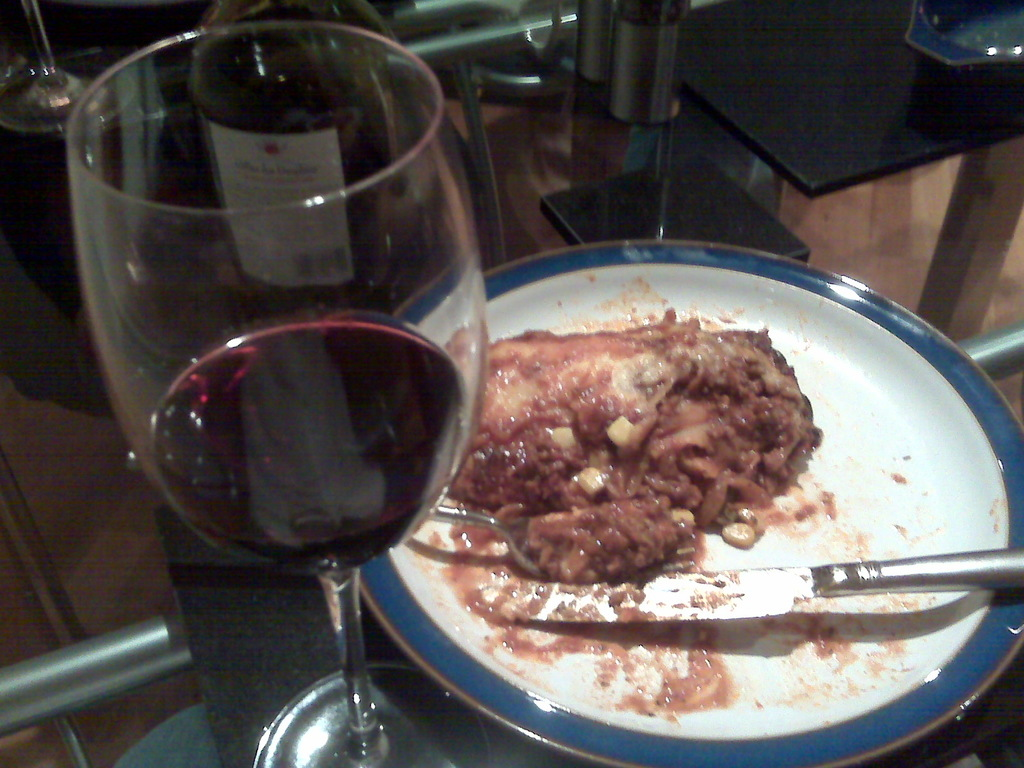plate: (354, 240, 1023, 767)
